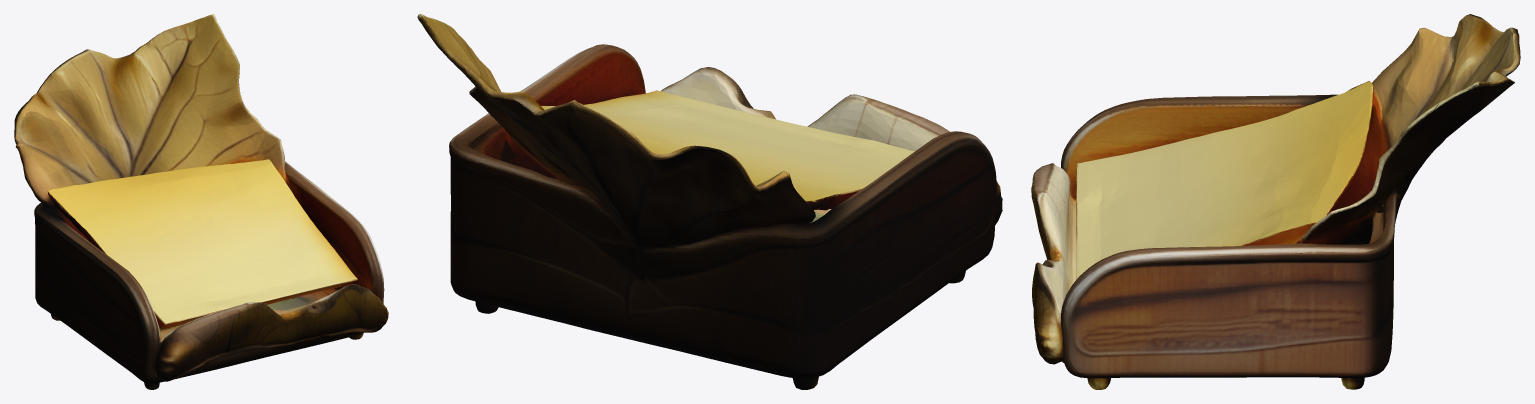
File: compressed-leaf-post-it-holder-aged-hyperrealistic-furniture.jpeg.glb
3 views of the same model, side by side, from view 1: azimuth 30°, elevation 25°; view 2: azimuth 150°, elevation 25°; view 3: azimuth 270°, elevation 25° (orthographic). The views are drawn at different scales.
Visible parts, largest first — view 1: world; view 2: world; view 3: world.
Boxes of the visible parts, bbox=[...] form: world: bbox=[14, 14, 388, 389]; world: bbox=[417, 14, 1002, 389]; world: bbox=[1031, 14, 1520, 389].
Bounding box in the file's own units: 0.7724 × 0.6844 × 1.
1 material, 1 textured.
